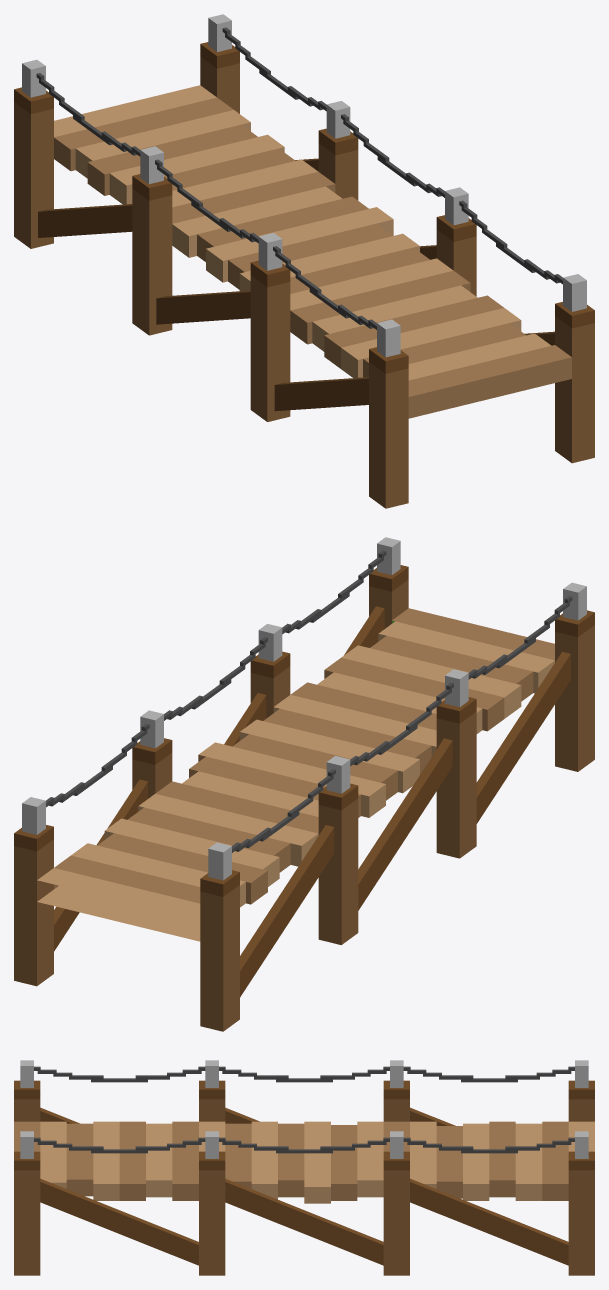
The model's file is SM_Wooden_Bridge.fbx.
The picture shows the model from 3 angles, top to bottom: view 1: azimuth 30°, elevation 25°; view 2: azimuth 150°, elevation 25°; view 3: azimuth 270°, elevation 25°; orthographic projection. The views are drawn at different scales.
Visible parts, largest first — view 1: SM_Wooden_Bridge; view 2: SM_Wooden_Bridge; view 3: SM_Wooden_Bridge.
Part boxes in pixels (box(x1,y1,x2,y2)): SM_Wooden_Bridge: box(14, 14, 594, 508); SM_Wooden_Bridge: box(14, 537, 594, 1031); SM_Wooden_Bridge: box(14, 1060, 594, 1275).
Size of the model in its own units: 5.75 by 17.7 by 4.61.
